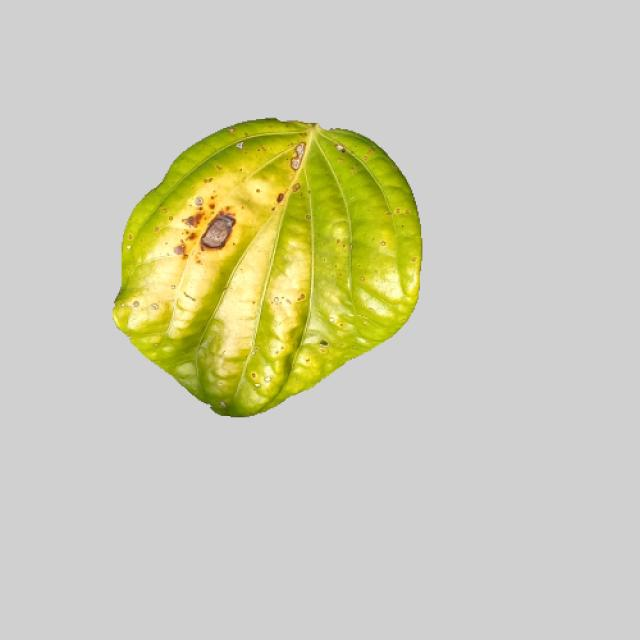leaf-blight: (105, 115, 422, 415)
